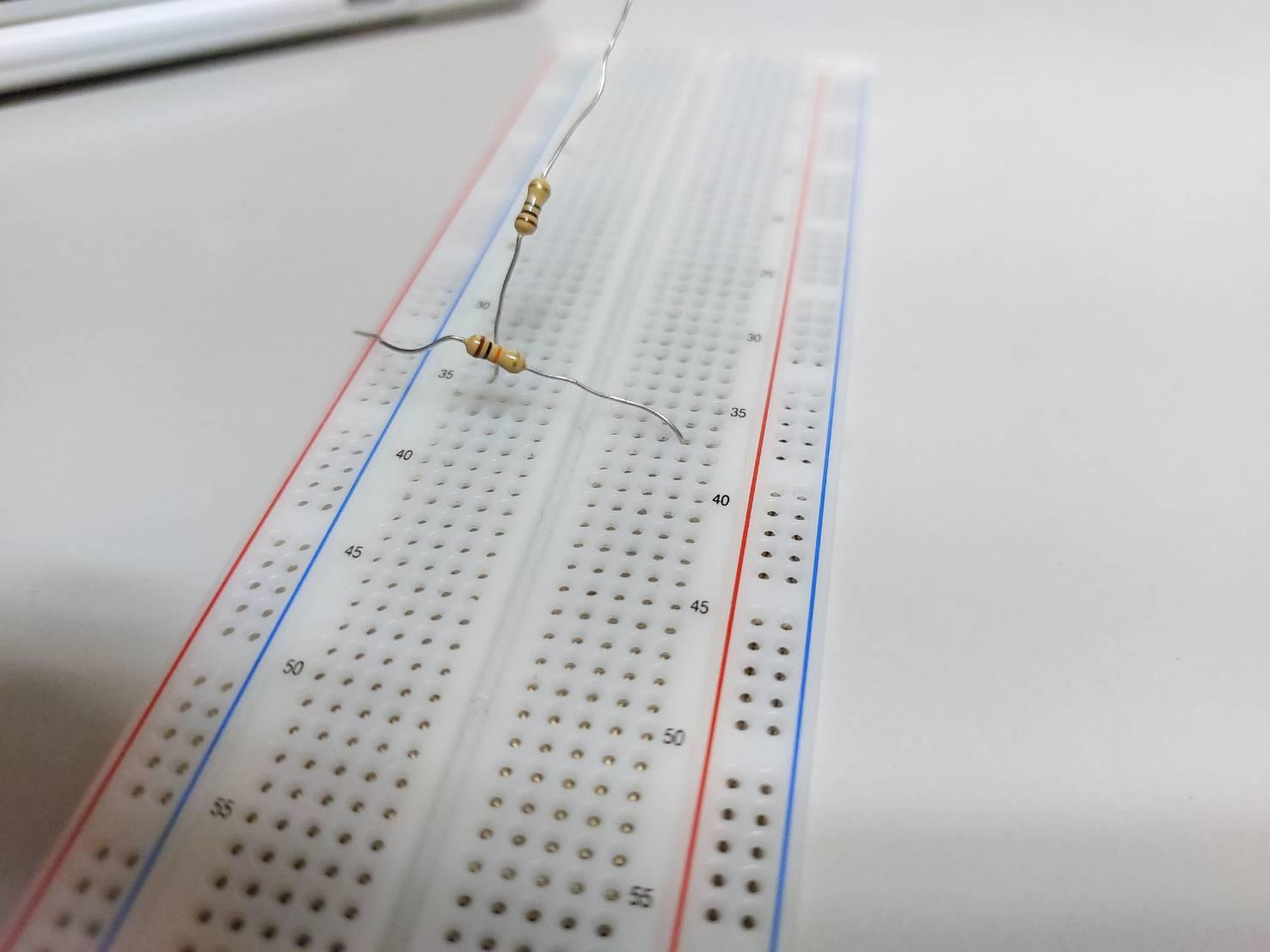resistor: (465, 332, 527, 376), (517, 180, 549, 237)
